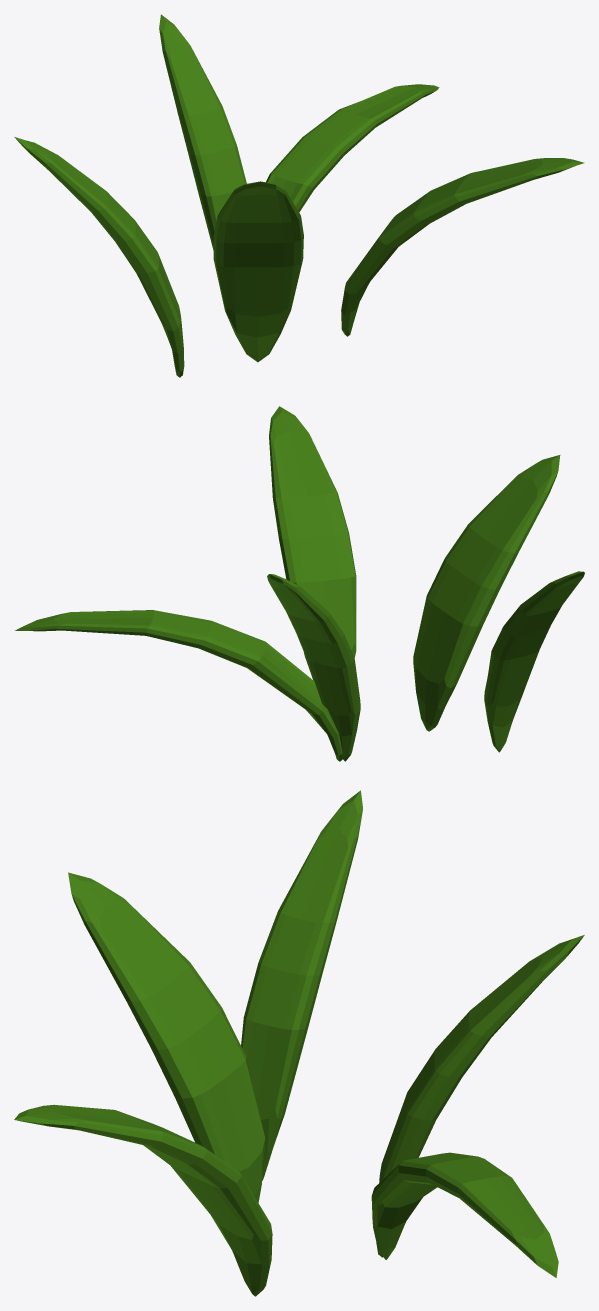
Rendered from Grass03.fbx.
3 views of the same model, one above another, from view 1: azimuth 30°, elevation 25°; view 2: azimuth 150°, elevation 25°; view 3: azimuth 270°, elevation 25° (orthographic). The views are drawn at different scales.
Visible parts, largest first — view 1: Grass2.010, Grass2.007, Grass2.011, Grass2.009, Grass2.008; view 2: Grass2.010, Grass2.011, Grass2.008, Grass2.007, Grass2.009; view 3: Grass2.010, Grass2.009, Grass2.011, Grass2.008, Grass2.007.
Part boxes in pixels (<box>): Grass2.010: <box>213,181,303,362</box>; Grass2.007: <box>159,14,246,250</box>; Grass2.011: <box>341,158,584,336</box>; Grass2.009: <box>14,137,184,377</box>; Grass2.008: <box>266,84,439,212</box>; Grass2.010: <box>413,455,560,731</box>; Grass2.011: <box>269,406,356,680</box>; Grass2.008: <box>15,610,342,761</box>; Grass2.007: <box>267,574,360,761</box>; Grass2.009: <box>484,571,584,752</box>; Grass2.010: <box>68,872,265,1202</box>; Grass2.009: <box>241,790,362,1180</box>; Grass2.011: <box>14,1104,272,1296</box>; Grass2.008: <box>371,1152,558,1277</box>; Grass2.007: <box>376,935,584,1257</box>.
Size of the model in its own units: 548 by 258 by 413.
